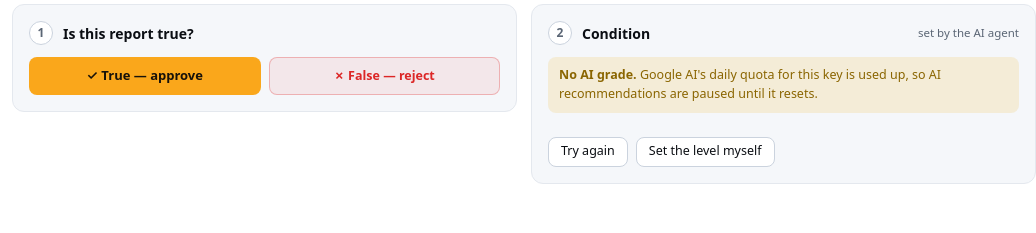
Test case: Report decision — the AI condition › still reports a failure that is not about the model
Click the button "Try again".
click(588, 152)  # box [548,136,628,166]
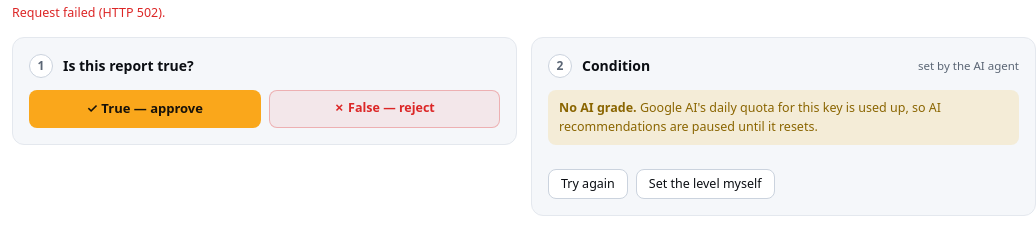
Result: the message "Request failed (HTTP 502)." is shown at [12,4,165,21]
